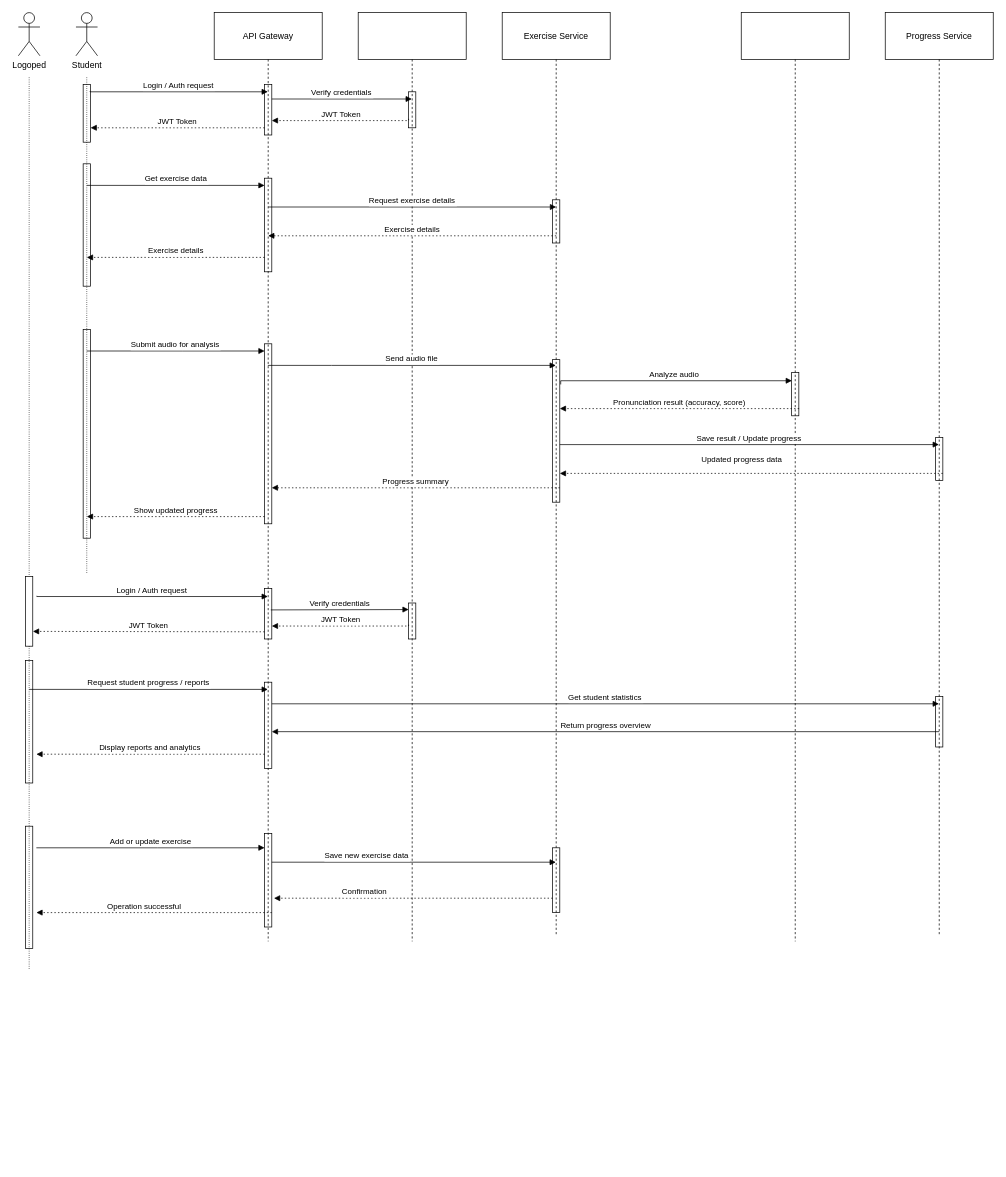
This 1006x1177 diagram has some shape labels left out. Here are the shapes that lost their labels. From the top down, the box of each, then its label:
(357, 12, 466, 941): User Service
(741, 12, 849, 941): Speech AI Service
